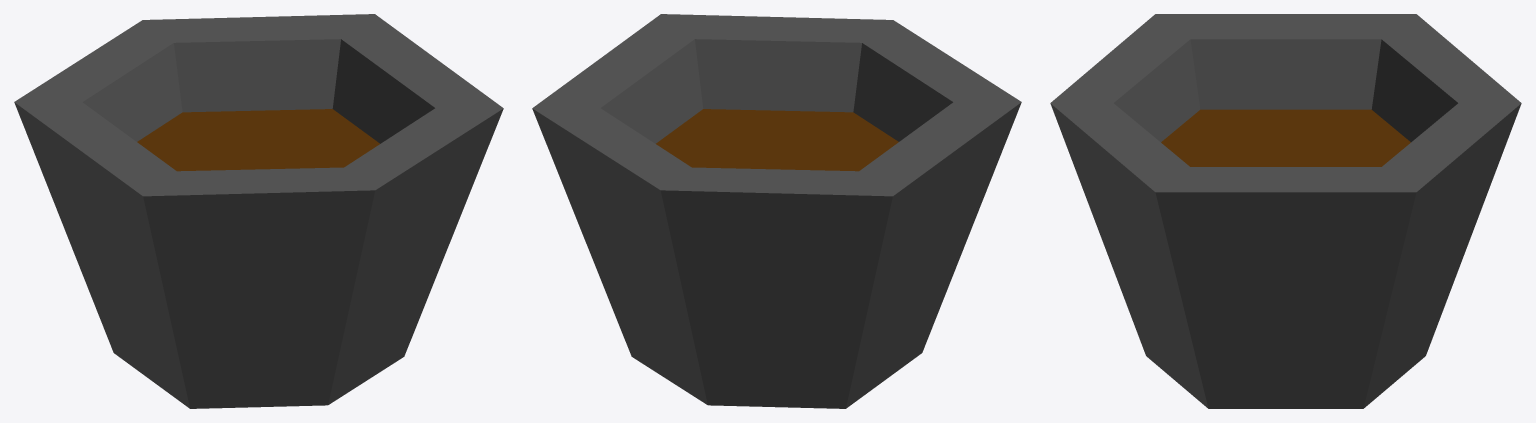
The model's file is Maceta.fbx.
3 renders of one model, left to right at view 1: azimuth 30°, elevation 25°; view 2: azimuth 150°, elevation 25°; view 3: azimuth 270°, elevation 25°, orthographic.
Parts seen in each view (by area): view 1: Maceta.001; view 2: Maceta.001; view 3: Maceta.001.
Boxes of the visible parts, <box> form: Maceta.001: <box>14,14,503,408</box>; Maceta.001: <box>532,14,1021,408</box>; Maceta.001: <box>1050,14,1521,408</box>.
Size of the model in its own units: 888 by 587 by 992.
